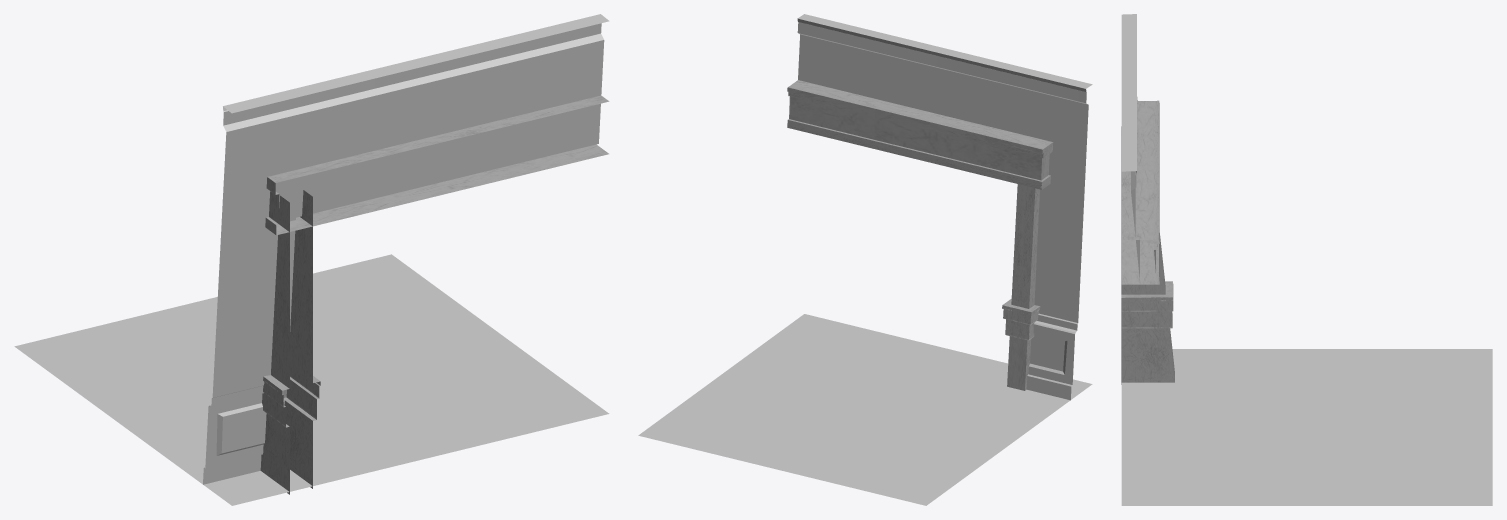
The model's file is interiorRoom_DoorLeft.fbx.
The picture shows the model from 3 angles, left to right: view 1: azimuth 30°, elevation 25°; view 2: azimuth 150°, elevation 25°; view 3: azimuth 270°, elevation 25°; orthographic projection. The views are drawn at different scales.
Parts seen in each view (by area): view 1: interiorRoom_DoorLeft; view 2: interiorRoom_DoorLeft; view 3: interiorRoom_DoorLeft.
Boxes of the visible parts, x1,y1,x2,y2 form: interiorRoom_DoorLeft: (14,14,609,505); interiorRoom_DoorLeft: (638,14,1092,505); interiorRoom_DoorLeft: (1121,14,1492,505).
Size of the model in its own units: 3 by 3.01 by 3.
